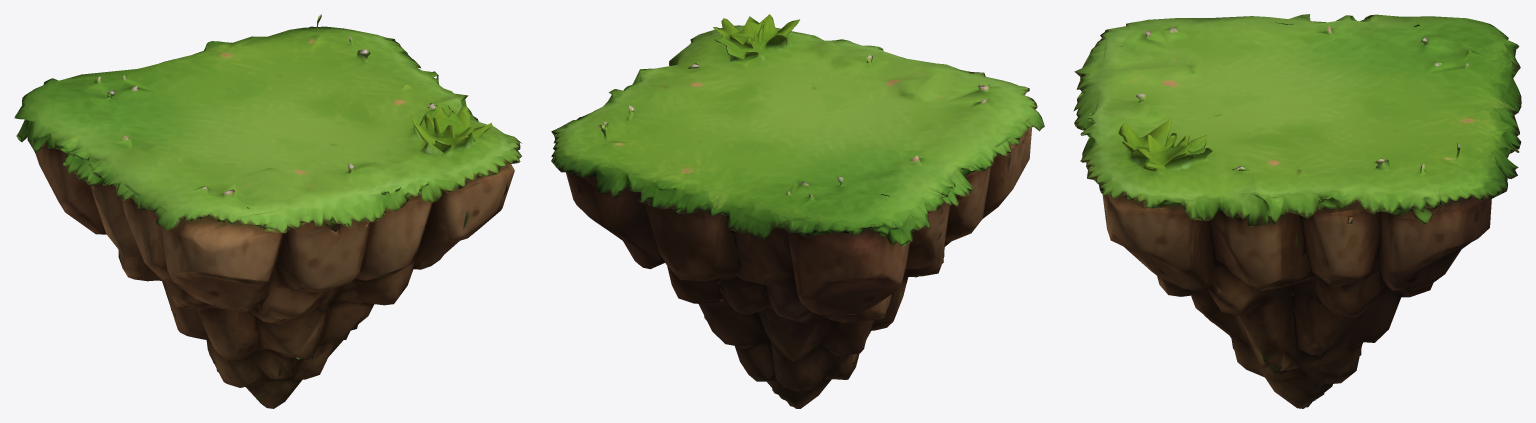
File: island.glb
3 renders of one model, left to right at view 1: azimuth 30°, elevation 25°; view 2: azimuth 150°, elevation 25°; view 3: azimuth 270°, elevation 25°, orthographic. The views are drawn at different scales.
Visible parts, largest first — view 1: island; view 2: island; view 3: island.
Boxes of the visible parts, x1=… form: island: x1=14, y1=14, x2=521, y2=408; island: x1=551, y1=14, x2=1044, y2=408; island: x1=1073, y1=14, x2=1521, y2=408.
Bounding box in the file's own units: 0.9972 × 0.8004 × 0.9829.
Materials: 1 (1 with a texture image).
